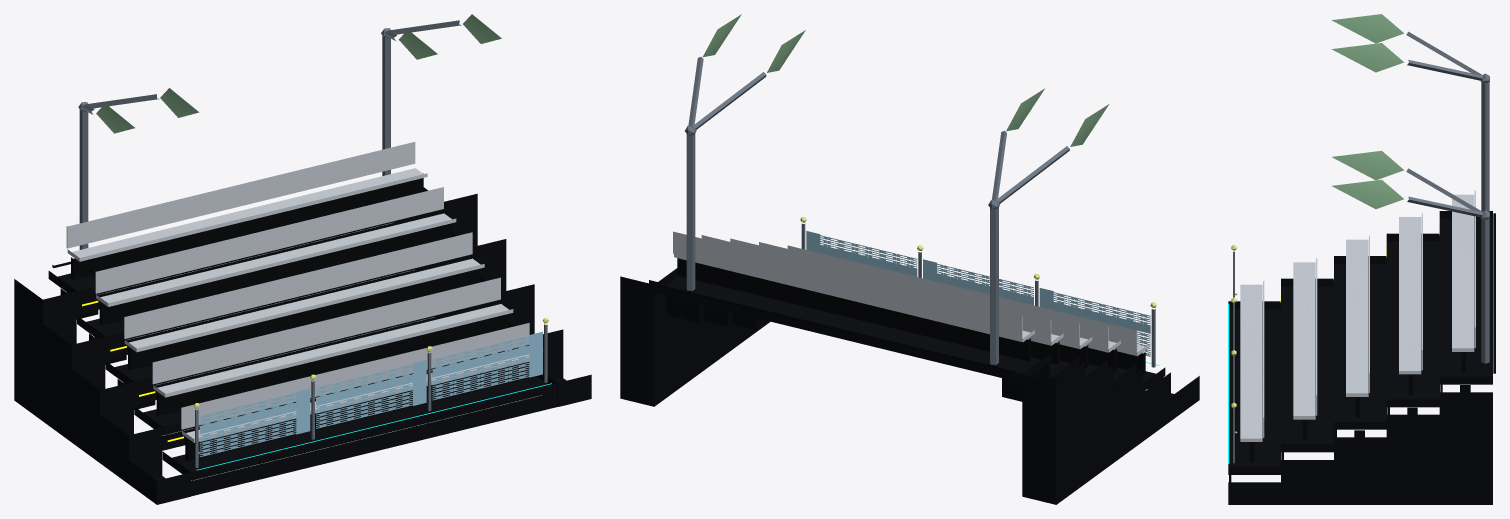
Rendered from tt_stand_module.glb.
3 renders of one model, left to right at view 1: azimuth 30°, elevation 25°; view 2: azimuth 150°, elevation 25°; view 3: azimuth 270°, elevation 25°, orthographic. The views are drawn at different scales.
Visible parts, largest first — view 1: Seat_Backs, Seat_Beams, Aisle_Solid, Seat_Pans, Tier_Slabs, Guard_Scissor, Risers, Canopy_Steel, Canopy_Leaves, Rail_Posts, Beams; view 2: Aisle_Solid, Seat_Backs, Tier_Slabs, Seat_Beams, Guard_Scissor, Canopy_Steel, Beams, Seat_Pans, Canopy_Leaves; view 3: Tier_Slabs, Aisle_Solid, Seat_Pans, Canopy_Leaves, Canopy_Steel, Seat_Backs, Beams, Seat_Beams, Rail_Posts, Cyan_Edge.
Boxes of the visible parts, x1,y1,x2,y2 form: Seat_Backs: (66, 142, 529, 429); Seat_Beams: (71, 173, 537, 461); Aisle_Solid: (14, 187, 591, 504); Seat_Pans: (67, 168, 529, 442); Tier_Slabs: (48, 209, 557, 480); Guard_Scissor: (199, 332, 542, 456); Risers: (76, 211, 557, 496); Canopy_Steel: (78, 20, 461, 249); Canopy_Leaves: (96, 14, 501, 133); Rail_Posts: (195, 324, 547, 467); Beams: (52, 213, 488, 409); Aisle_Solid: (620, 268, 1199, 504); Seat_Backs: (673, 231, 1137, 352); Tier_Slabs: (654, 276, 1165, 390); Seat_Beams: (677, 258, 1145, 374); Guard_Scissor: (806, 231, 1150, 356); Canopy_Steel: (685, 56, 1069, 364); Beams: (658, 284, 1090, 401); Seat_Pans: (674, 254, 1149, 356); Canopy_Leaves: (703, 14, 1109, 146); Tier_Slabs: (1228, 219, 1492, 474); Aisle_Solid: (1228, 211, 1492, 504); Seat_Pans: (1240, 194, 1474, 441); Canopy_Leaves: (1331, 14, 1404, 209); Canopy_Steel: (1406, 31, 1489, 363); Seat_Backs: (1263, 190, 1475, 437); Beams: (1354, 213, 1495, 437); Seat_Beams: (1250, 352, 1465, 462); Rail_Posts: (1233, 251, 1234, 463); Cyan_Edge: (1228, 303, 1229, 463).
Size of what is drawn, in the model's own units: 7.47 by 5.47 by 4.31.
10 materials, 5 textured.
